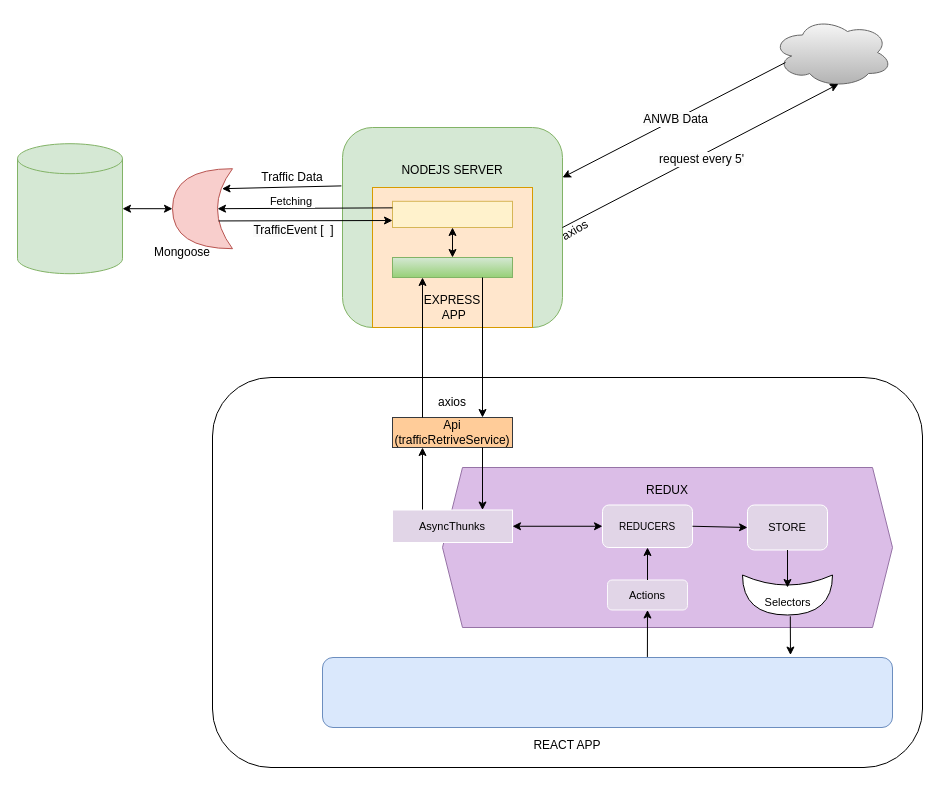
Image size: 940x785. Some labels were removed from this diagram. Here are the shapes that lost their labels. From the top down, the centre of each, then its label:
At point (832, 52): "ANWB API".
At point (69, 208): "MongoDB".
At point (452, 214): "CONTROLLER".
At point (452, 267): "ROUTER".
At point (607, 692): "UI Components".
